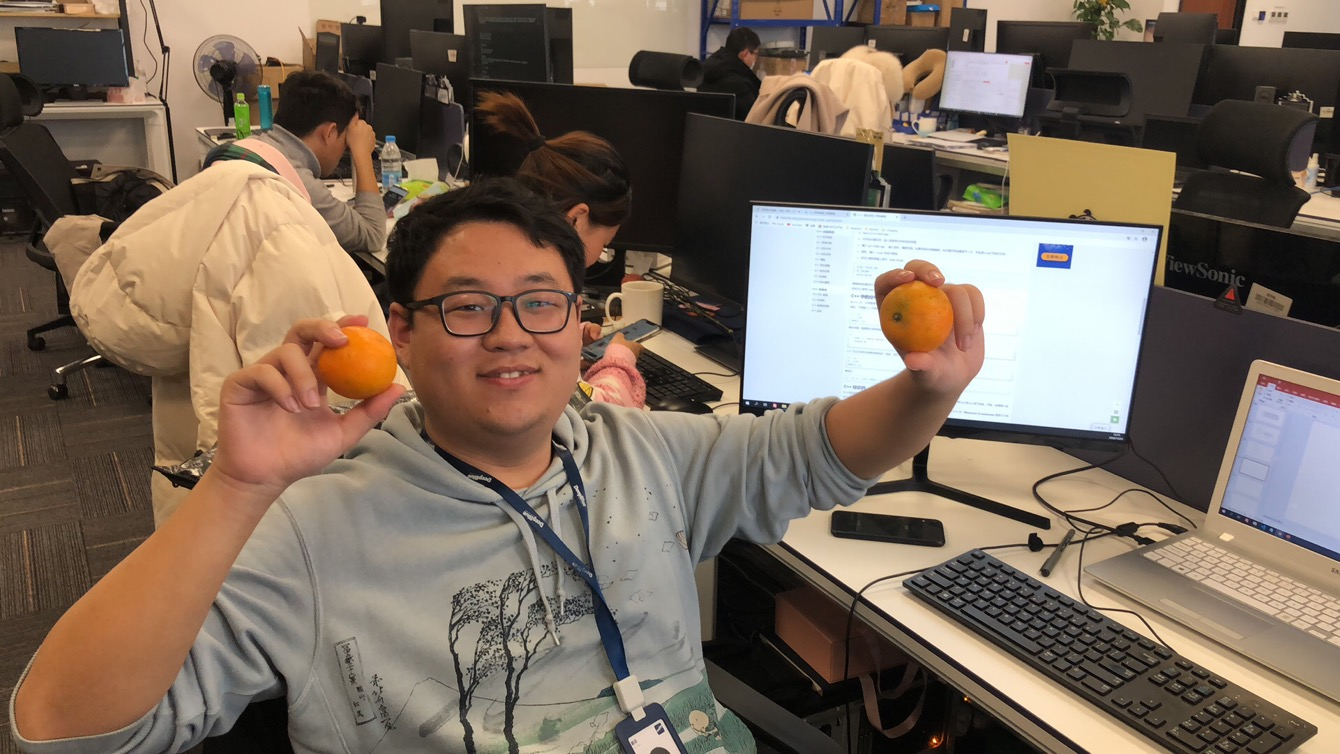goods: (318, 326, 397, 399), (880, 278, 954, 353)
